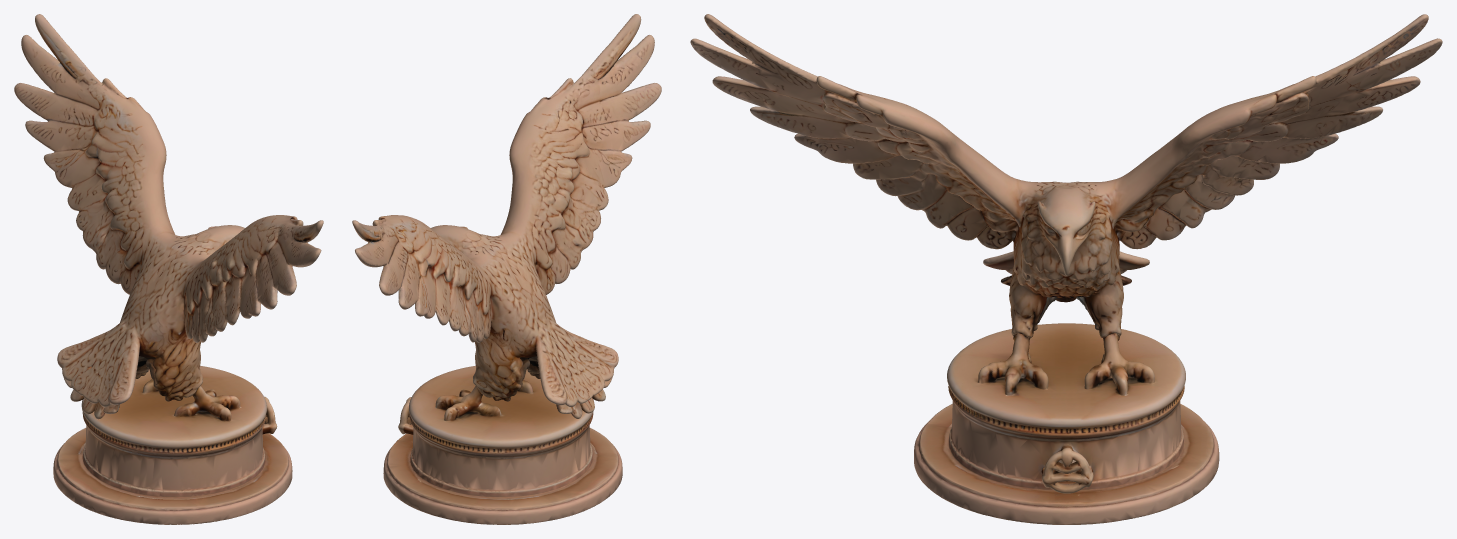
The model's file is city-statue-eagle.glb.
3 views of the same model, side by side, from view 1: azimuth 30°, elevation 25°; view 2: azimuth 150°, elevation 25°; view 3: azimuth 270°, elevation 25° (orthographic). The views are drawn at different scales.
Visible parts, largest first — view 1: tripo_node_d78c2427-fecb-4365-9a1d-735dc177d081; view 2: tripo_node_d78c2427-fecb-4365-9a1d-735dc177d081; view 3: tripo_node_d78c2427-fecb-4365-9a1d-735dc177d081.
Boxes of the visible parts, left/top/right/bottom form: tripo_node_d78c2427-fecb-4365-9a1d-735dc177d081: left=14, top=14, right=323, bottom=524; tripo_node_d78c2427-fecb-4365-9a1d-735dc177d081: left=352, top=14, right=661, bottom=524; tripo_node_d78c2427-fecb-4365-9a1d-735dc177d081: left=690, top=14, right=1442, bottom=524.
Bounding box in the file's own units: 2.43 × 4 × 6.04.
1 material, 1 textured.
